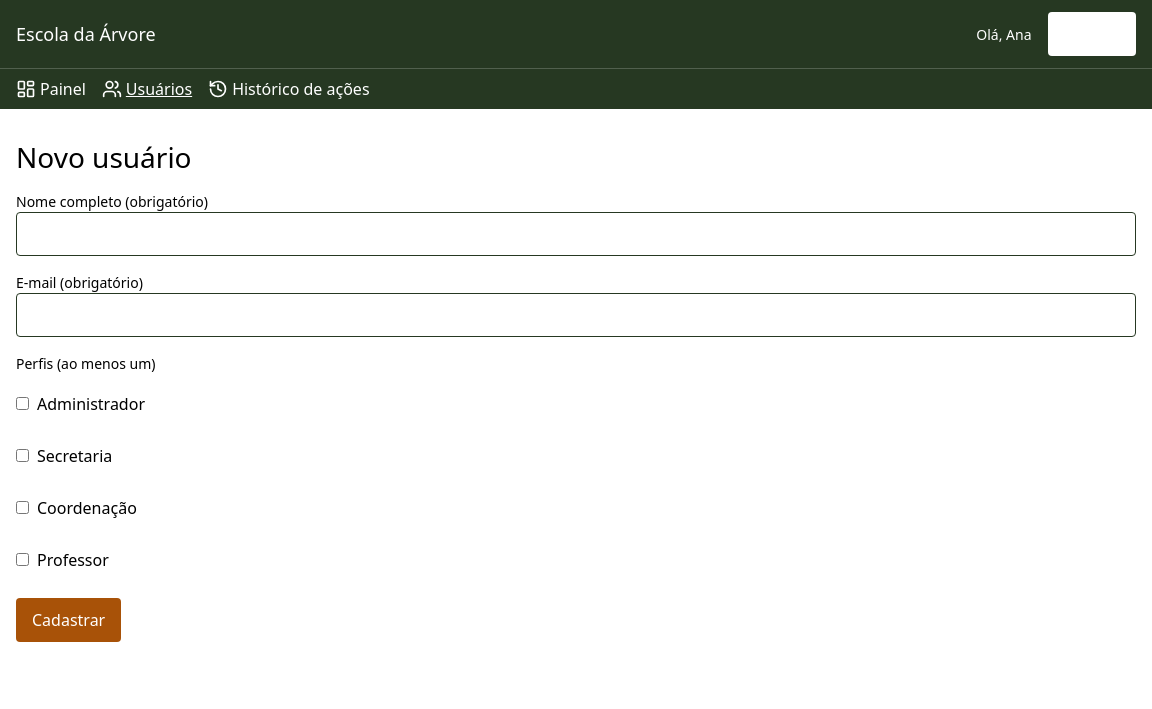
Test case: US2 — cadastro de usuário › recusa perfil Professor sem vínculo, com explicação
Type "Carlos Lima" into the field labelled "Nome completo (obrigatório)".
click(576, 234); type("Carlos Lima")  # box [16,212,1136,256]
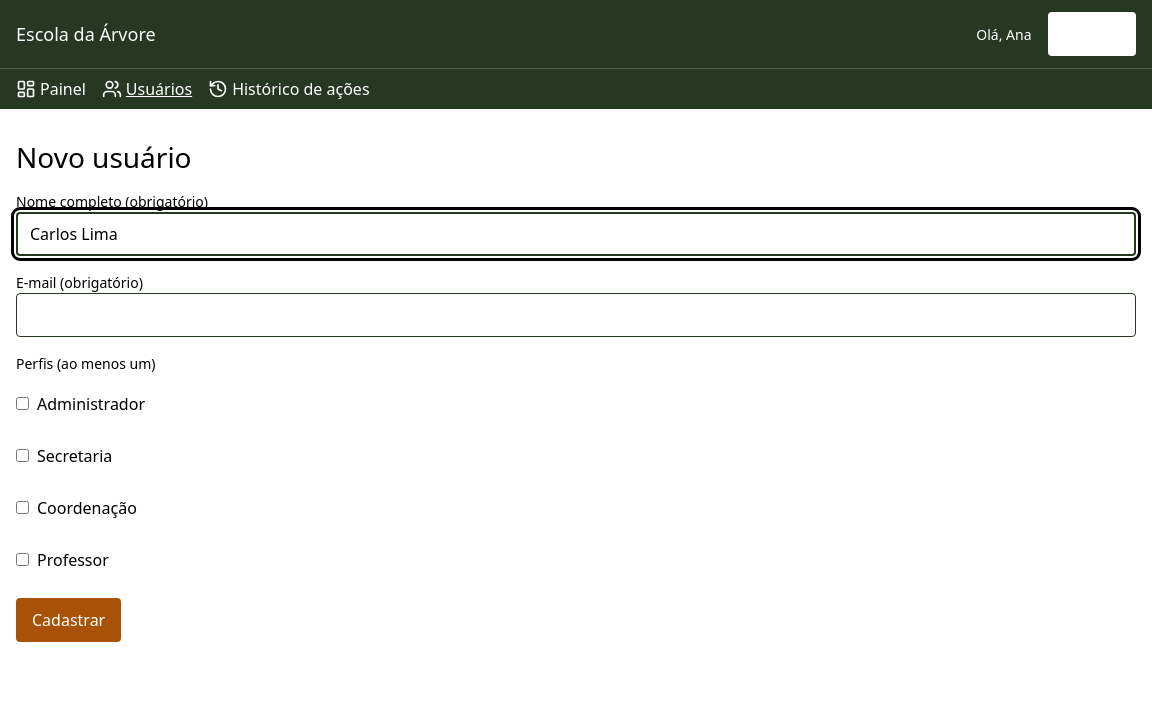
Type "carlos@escola.local" into the field labelled "E-mail (obrigatório)".
click(576, 315); type("carlos@escola.local")  # box [16,293,1136,337]
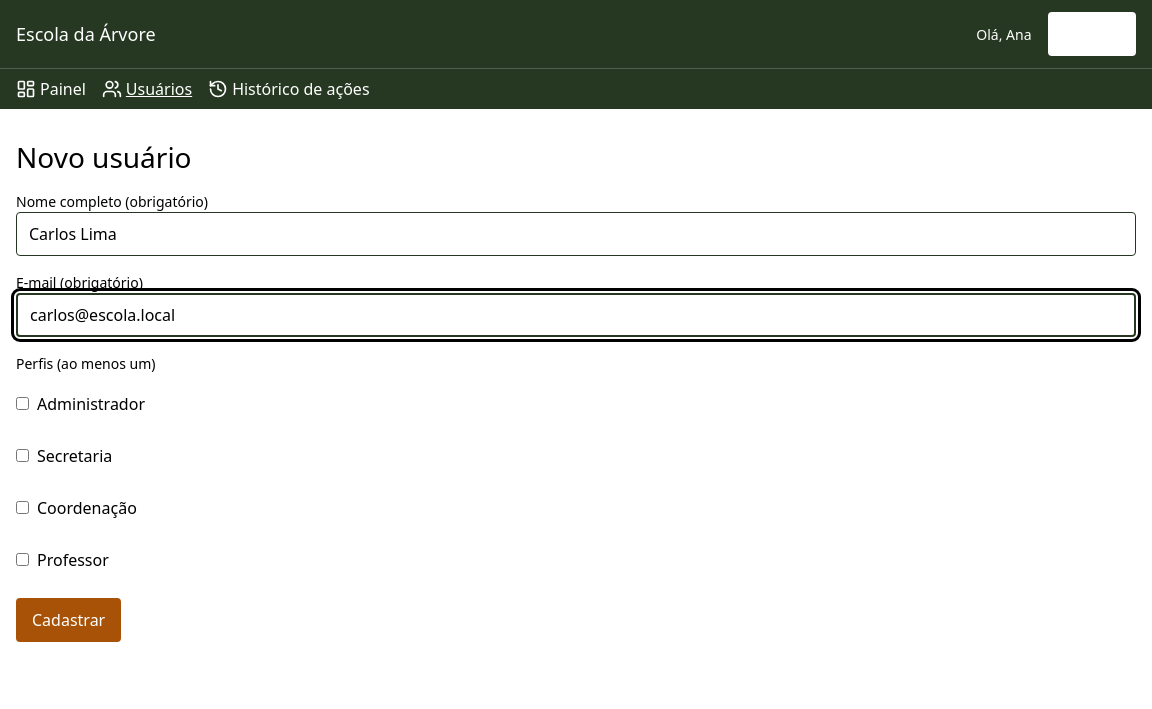
Click the checkbox labelled "Professor".
click(22, 560)  # box [16,553,29,566]
(page scrolled)
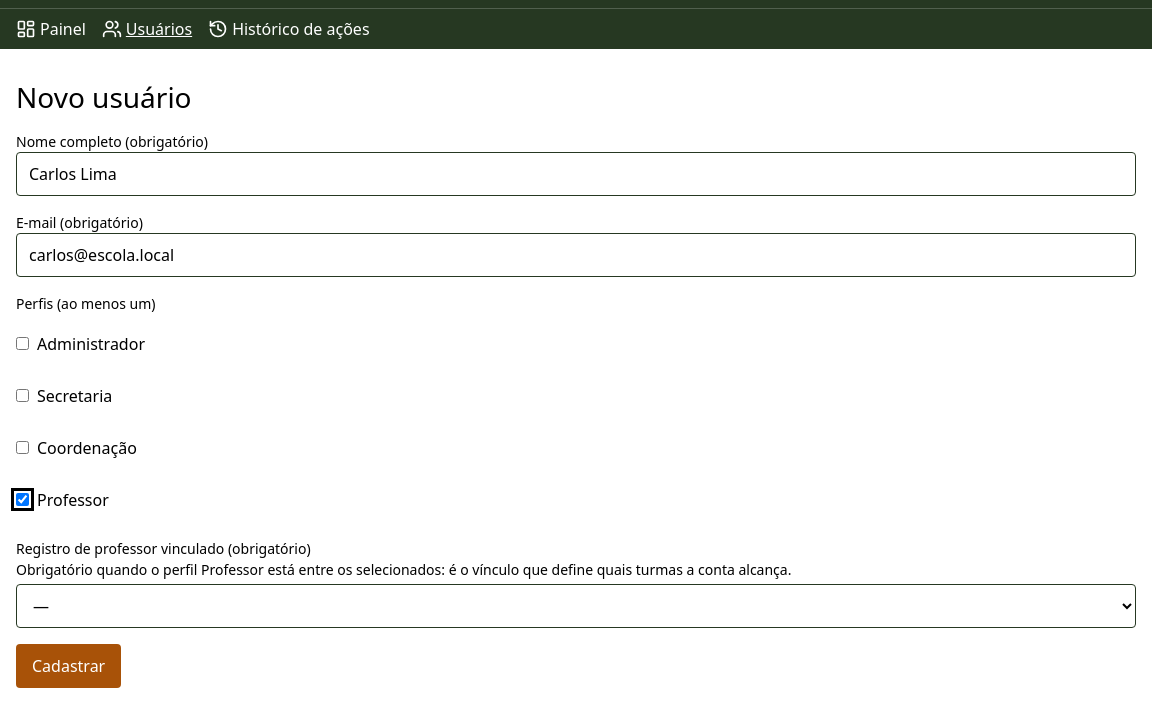
// Sem professor disponível na semente: o campo aparece, mas nenhuma opção existe além de "—".
Click the button "Cadastrar".
click(69, 666)  # box [16,644,121,688]
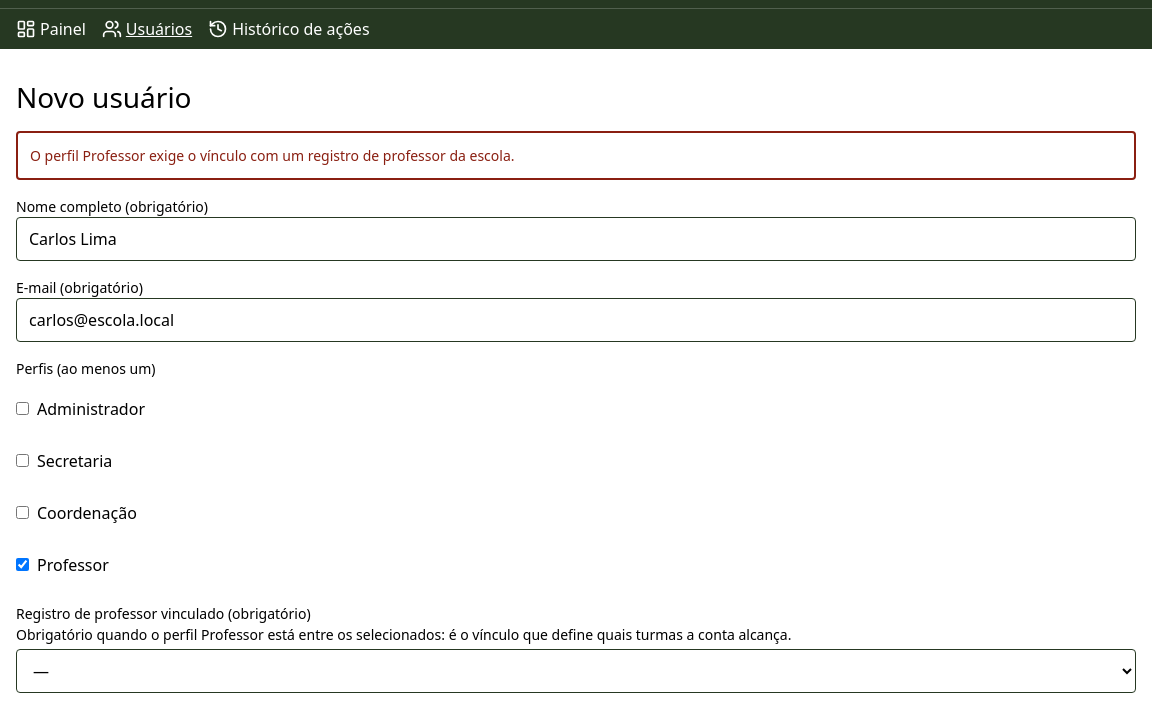
Result: the text "O perfil Professor exige o vínculo com um registro de professor da escola." is shown at [16,131,1136,180]
